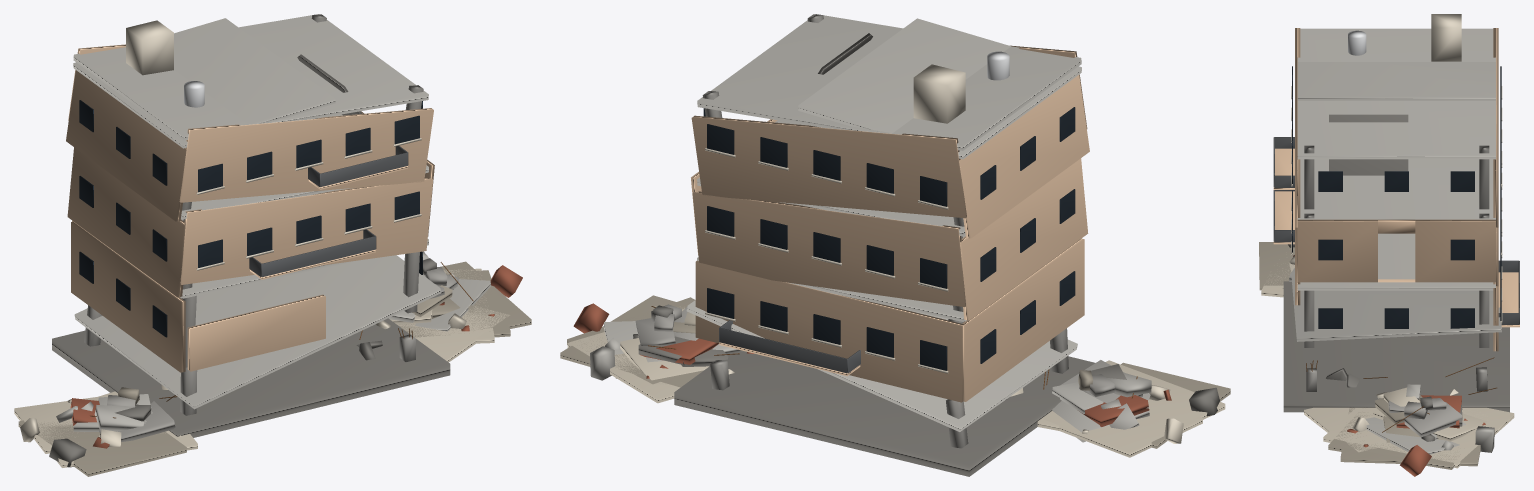
3 renders of one model, left to right at view 1: azimuth 30°, elevation 25°; view 2: azimuth 150°, elevation 25°; view 3: azimuth 270°, elevation 25°, orthographic. The views are drawn at different scales.
Visible parts, largest first — view 1: c5, c3, c0, c6, c10, c1, c11, c7, c8, c12; view 2: c5, c3, c0, c6, c11, c7, c1, c10, c12, c8; view 3: c3, c0, c5, c11, c6, c1, c10, c7, c8, c12, c9.
Boxes of the visible parts, x1,y1,x2,y2 form: c5: [66, 44, 434, 372]; c3: [56, 14, 491, 431]; c0: [49, 54, 453, 467]; c6: [79, 100, 422, 337]; c10: [18, 261, 531, 476]; c1: [84, 14, 458, 441]; c11: [14, 268, 509, 467]; c7: [20, 20, 466, 446]; c8: [249, 145, 408, 277]; c12: [70, 265, 522, 448]; c5: [691, 45, 1089, 402]; c3: [590, 14, 1151, 442]; c0: [633, 33, 1219, 476]; c6: [703, 107, 1075, 370]; c11: [567, 306, 1225, 457]; c7: [705, 64, 1183, 443]; c1: [635, 14, 1150, 448]; c10: [560, 295, 1230, 448]; c12: [573, 303, 1171, 426]; c8: [719, 320, 860, 373]; c3: [1291, 28, 1501, 454]; c0: [1283, 114, 1509, 441]; c5: [1273, 28, 1519, 351]; c11: [1261, 249, 1514, 468]; c6: [1292, 66, 1501, 328]; c1: [1289, 145, 1489, 437]; c10: [1259, 242, 1480, 469]; c7: [1282, 14, 1502, 431]; c8: [1273, 137, 1519, 324]; c12: [1293, 255, 1485, 476]; c9: [1348, 30, 1366, 55].
Size of the model in its own units: 23.71 by 11.18 by 14.45.
